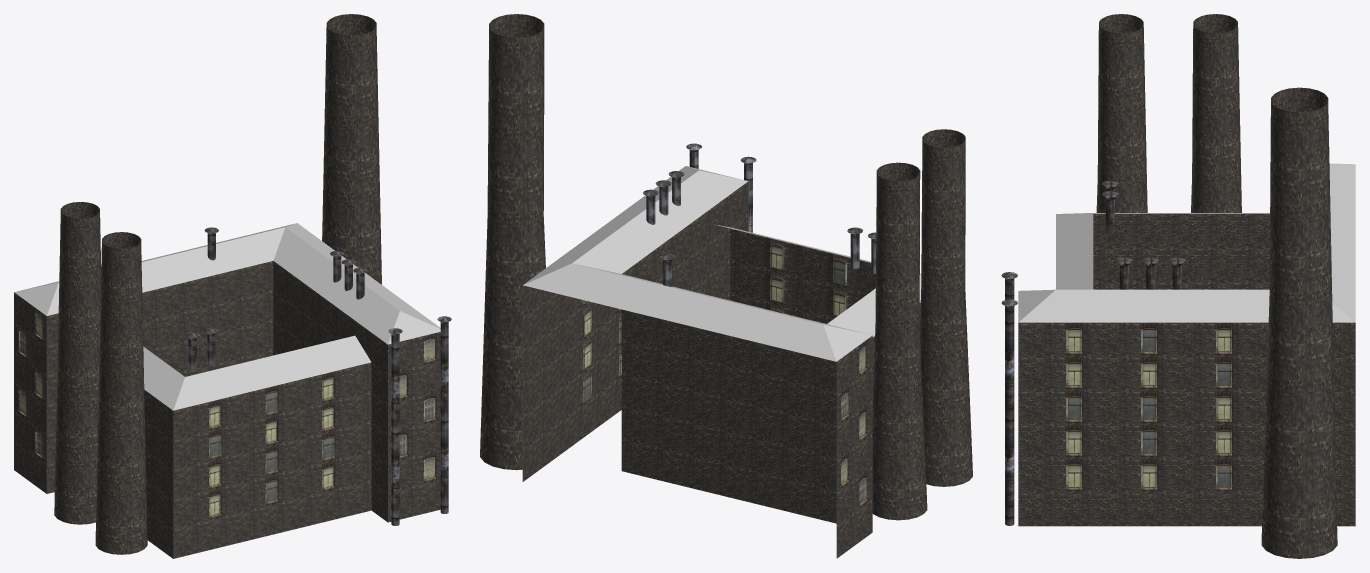
The model's file is factory_backdrop_01.DAE.
3 renders of one model, left to right at view 1: azimuth 30°, elevation 25°; view 2: azimuth 150°, elevation 25°; view 3: azimuth 270°, elevation 25°, orthographic. The views are drawn at different scales.
Visible parts, largest first — view 1: polySurface14, Box306, Cylinder012, polySurface8, polySurface1, polySurface7, polySurface13; view 2: polySurface14, Box306, Cylinder012, polySurface1, polySurface8, polySurface7, polySurface13; view 3: polySurface14, Box306, polySurface1, polySurface8, Cylinder012.
Part boxes in pixels (x1,y1,x2,y2): polySurface14: [14, 14, 440, 558]; Box306: [14, 223, 440, 410]; Cylinder012: [185, 227, 451, 525]; polySurface8: [201, 383, 343, 508]; polySurface1: [201, 371, 343, 522]; polySurface7: [14, 322, 440, 463]; polySurface13: [14, 307, 440, 485]; polySurface14: [480, 14, 972, 558]; Box306: [523, 166, 921, 361]; Cylinder012: [643, 143, 876, 286]; polySurface1: [577, 238, 848, 382]; polySurface8: [577, 251, 855, 409]; polySurface7: [836, 382, 872, 512]; polySurface13: [836, 339, 872, 492]; polySurface14: [1018, 14, 1355, 558]; Box306: [1018, 163, 1355, 322]; polySurface1: [1056, 322, 1243, 492]; polySurface8: [1056, 322, 1243, 492]; Cylinder012: [1001, 180, 1185, 525].
Size of the model in its own units: 50.8 by 52.19 by 37.82.
